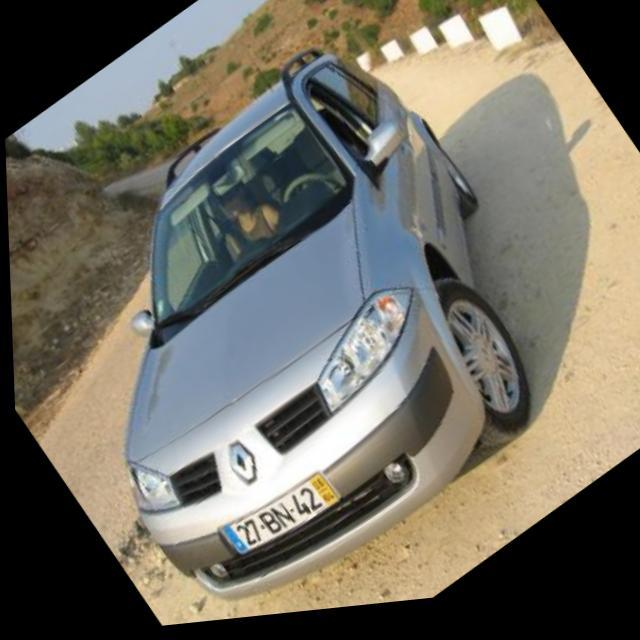license_plate: (215, 465, 341, 578)
